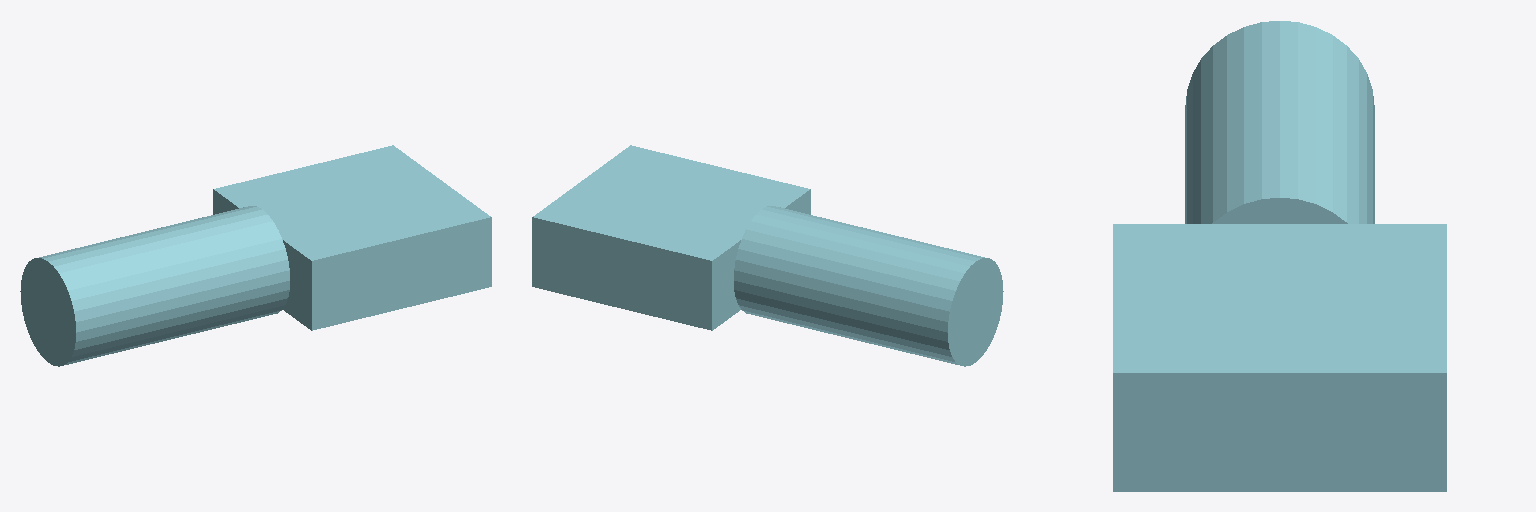
robot.urdf — cylinder_brush_v11001:
<?xml version="1.0"?>
<robot name="cylinder_brush_v11001">

  <link name="cylinder_brush_v11001">
    <!-- Handle -->
    <visual>
      <origin xyz="0 0 0" rpy="0 1.5707963267948966 0"/>
      <geometry>
        <cylinder length="0.09822994872234977" radius="0.02216258423829183"/>
      </geometry>
      <material name="material">
        <color rgba="0.639 0.847 0.882 1.0"/>
      </material>
    </visual>
    <collision>
      <origin xyz="0 0 0" rpy="0 1.5707963267948966 0"/>
      <geometry>
        <cylinder length="0.09822994872234977" radius="0.02216258423829183"/>
      </geometry>
    </collision>

    <!-- Head -->
    <visual>
      <origin xyz="0.09039046898079944 0 0" rpy="0 0 0"/>
      <geometry>
        <box size="0.08255098923924911 0.07803158716716949 0.030637721826921364"/>
      </geometry>
      <material name="material">
        <color rgba="0.639 0.847 0.882 1.0"/>
      </material>
    </visual>
    <collision>
      <origin xyz="0.09039046898079944 0 0" rpy="0 0 0"/>
      <geometry>
        <box size="0.08255098923924911 0.07803158716716949 0.030637721826921364"/>
      </geometry>
    </collision>

    <inertial>
      <density value="400.0"/>
    </inertial>
  </link>

</robot>

--- Render facts (derived) ---
The picture shows the robot from 3 angles, left to right: view 1: azimuth 30°, elevation 25°; view 2: azimuth 150°, elevation 25°; view 3: azimuth 270°, elevation 25°; orthographic projection.
Robot: cylinder_brush_v11001 — 1 links, 0 joints (none); root link cylinder_brush_v11001; default pose: every joint at zero.
Links seen in each view (by area): view 1: cylinder_brush_v11001; view 2: cylinder_brush_v11001; view 3: cylinder_brush_v11001.
Link boxes in pixels (x1,y1,x2,y2): cylinder_brush_v11001: [20, 145, 491, 366]; cylinder_brush_v11001: [532, 145, 1003, 366]; cylinder_brush_v11001: [1113, 21, 1446, 491].
Size in the robot's own frame: 0.1808 by 0.078 by 0.0443 metres.
Geometry: primitives only (box / cylinder / sphere), no mesh files.
